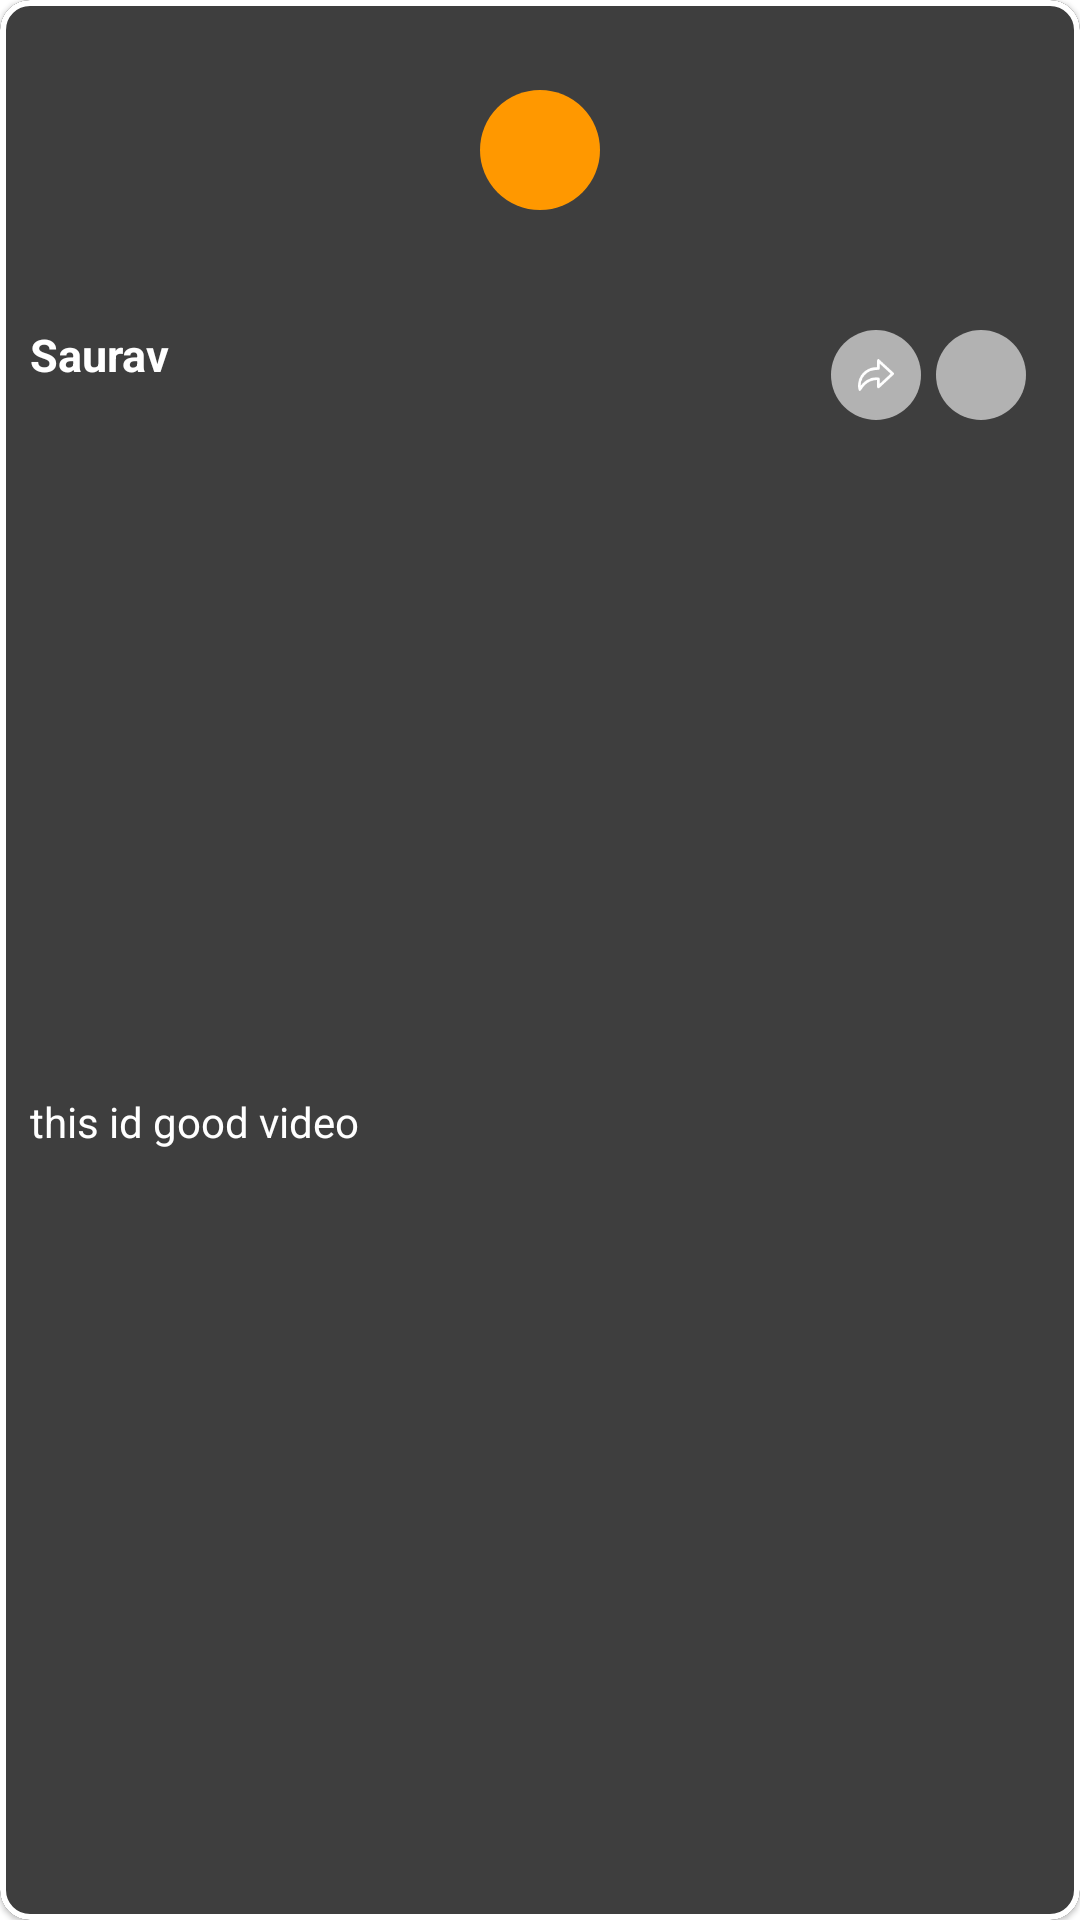

Locate icon controls on the screen. Image size 1080*1920, boxes as (x1, y1, x2, y2).
share: (831, 330, 921, 420)
